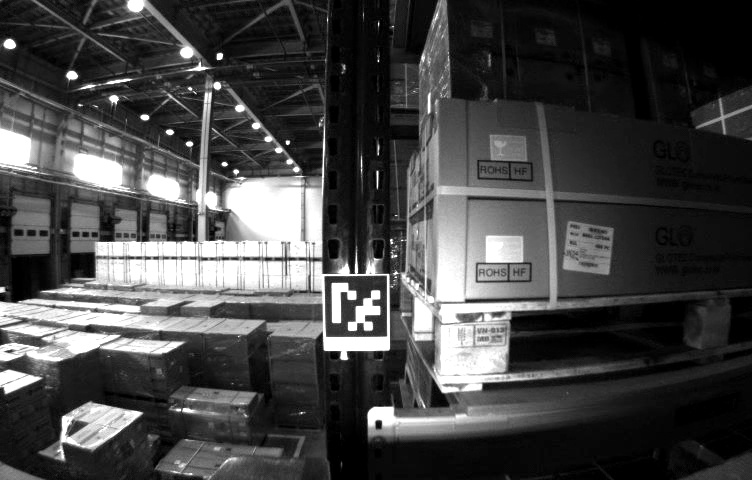True Barcode: (565, 218, 614, 274)
